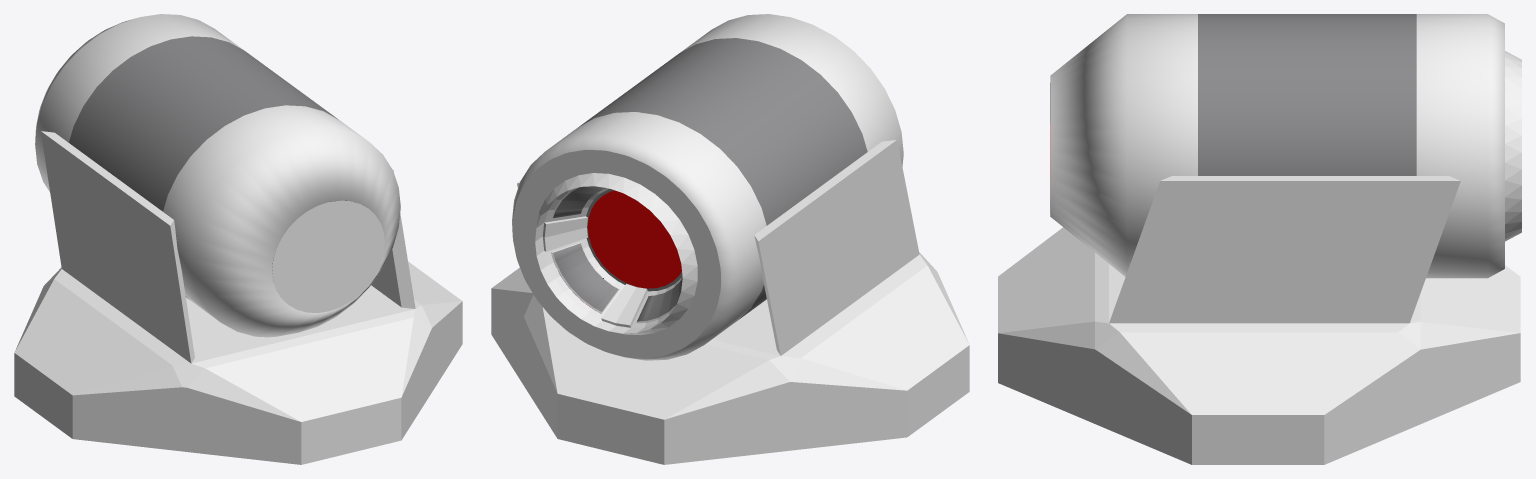
File: HS Mini Thruster.obj
The picture shows the model from 3 angles, left to right: view 1: azimuth 30°, elevation 25°; view 2: azimuth 150°, elevation 25°; view 3: azimuth 270°, elevation 25°; orthographic projection. The views are drawn at different scales.
Parts seen in each view (by area): view 1: HS_Mini_Thruster_Cylinder; view 2: HS_Mini_Thruster_Cylinder; view 3: HS_Mini_Thruster_Cylinder.
Boxes of the visible parts, <box> form: HS_Mini_Thruster_Cylinder: <box>14,14,462,464</box>; HS_Mini_Thruster_Cylinder: <box>491,14,969,464</box>; HS_Mini_Thruster_Cylinder: <box>998,14,1521,464</box>.
Bounding box in the file's own units: 1 × 0.79 × 1.
